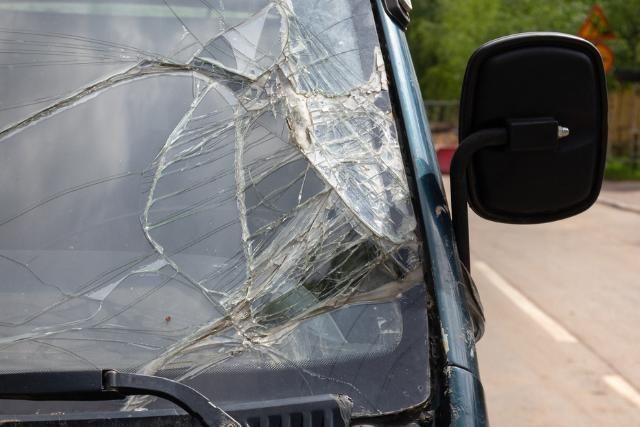Windshield: (0, 0, 424, 412)
